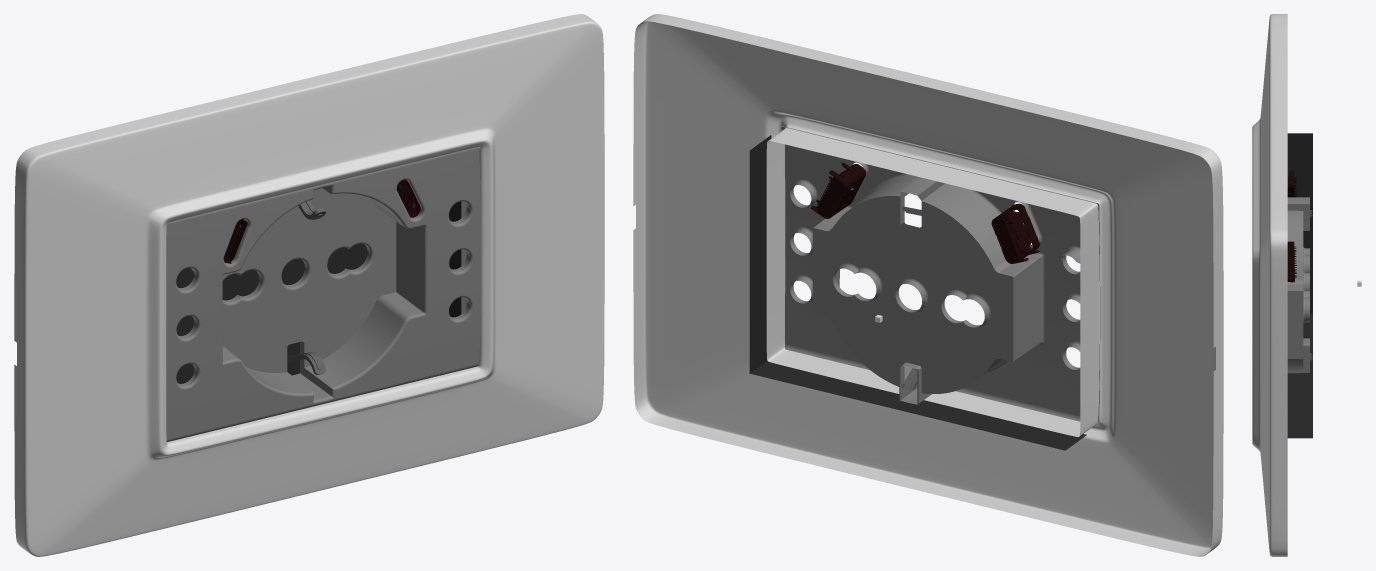
The model's file is 4box_USBP_503_su_muro.glb.
3 renders of one model, left to right at view 1: azimuth 30°, elevation 25°; view 2: azimuth 150°, elevation 25°; view 3: azimuth 270°, elevation 25°, orthographic. The views are drawn at different scales.
Visible parts, largest first — view 1: cornice, presa, retro, metal; view 2: cornice, presa, retro, cazzillo1, cazzillo2; view 3: cornice, retro, presa, cazzillo2, cazzillo1.
Boxes of the visible parts, bbox=[...] form: cornice: bbox=[14, 14, 604, 556]; presa: bbox=[166, 147, 480, 442]; retro: bbox=[176, 180, 461, 383]; metal: bbox=[287, 200, 325, 374]; cornice: bbox=[633, 14, 1223, 556]; presa: bbox=[780, 125, 1100, 425]; retro: bbox=[749, 135, 1086, 450]; cazzillo1: bbox=[991, 203, 1039, 263]; cazzillo2: bbox=[810, 162, 865, 218]; cornice: bbox=[1252, 14, 1287, 556]; retro: bbox=[1287, 133, 1312, 438]; presa: bbox=[1287, 197, 1309, 373]; cazzillo2: bbox=[1287, 241, 1296, 282]; cazzillo1: bbox=[1287, 171, 1296, 197].
Bounding box in the file's own units: 0.1205 × 0.0805 × 0.0243.
